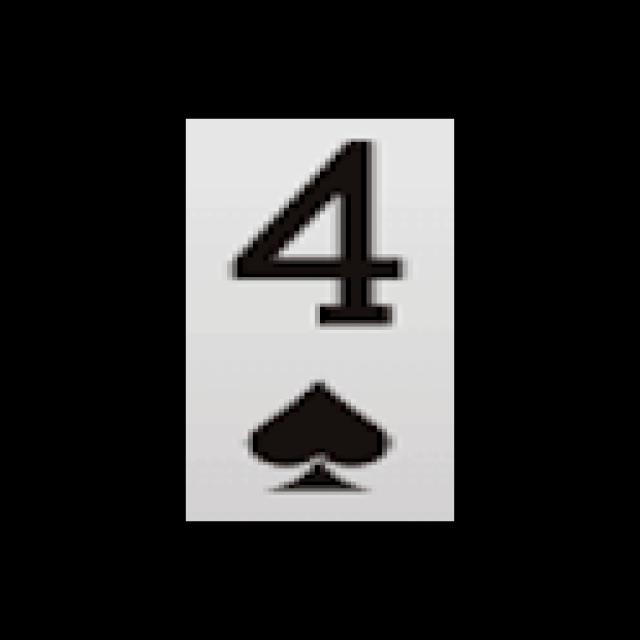4S: (200, 129, 433, 505)
